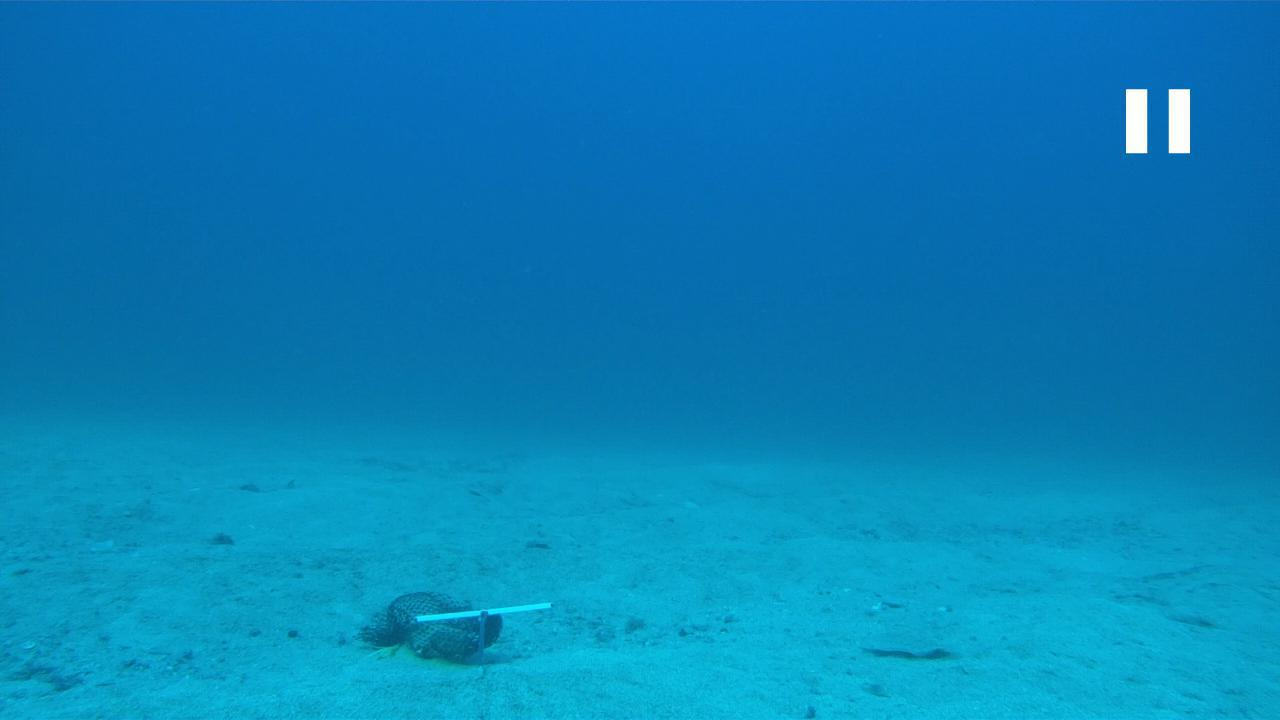bothus: (853, 626, 959, 668)
